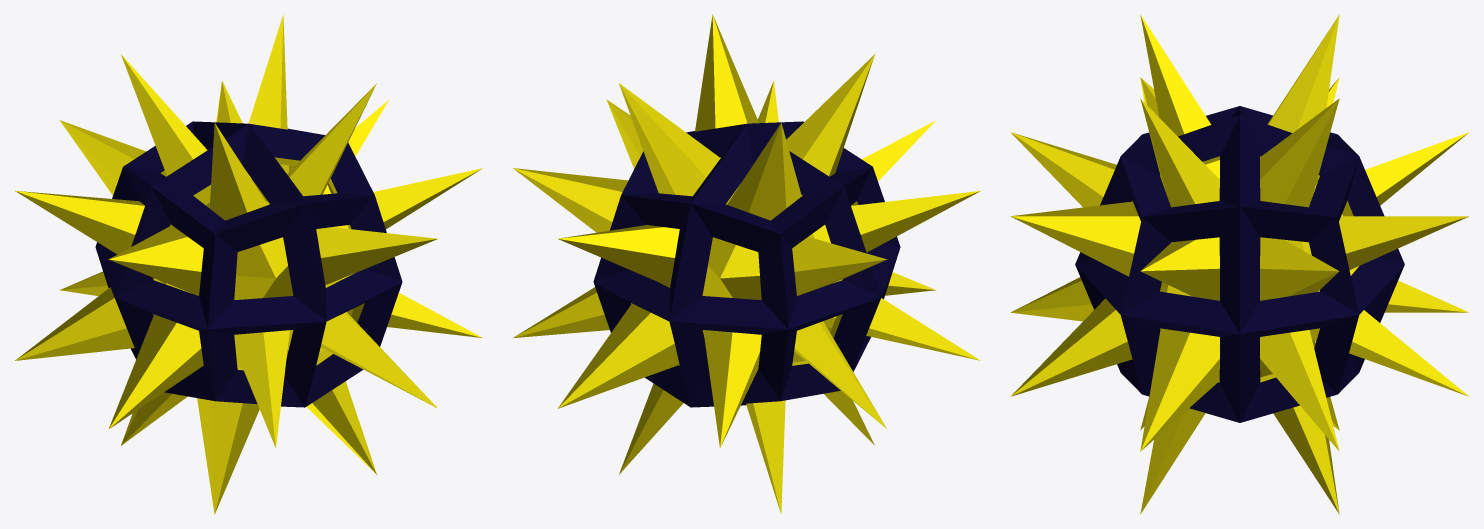
Rendered from shrapnelbomb.fbx.
3 renders of one model, left to right at view 1: azimuth 30°, elevation 25°; view 2: azimuth 150°, elevation 25°; view 3: azimuth 270°, elevation 25°, orthographic. The views are drawn at different scales.
Visible parts, largest first — view 1: shrapnel, bomb; view 2: shrapnel, bomb; view 3: shrapnel, bomb.
Part boxes in pixels (x1,y1,x2,y2): shrapnel: [15, 15, 482, 514]; bomb: [95, 121, 402, 407]; shrapnel: [513, 14, 980, 513]; bomb: [593, 121, 900, 407]; shrapnel: [1010, 14, 1469, 514]; bomb: [1075, 106, 1404, 422].
Size of the model in its own units: 387 by 387 by 387.
